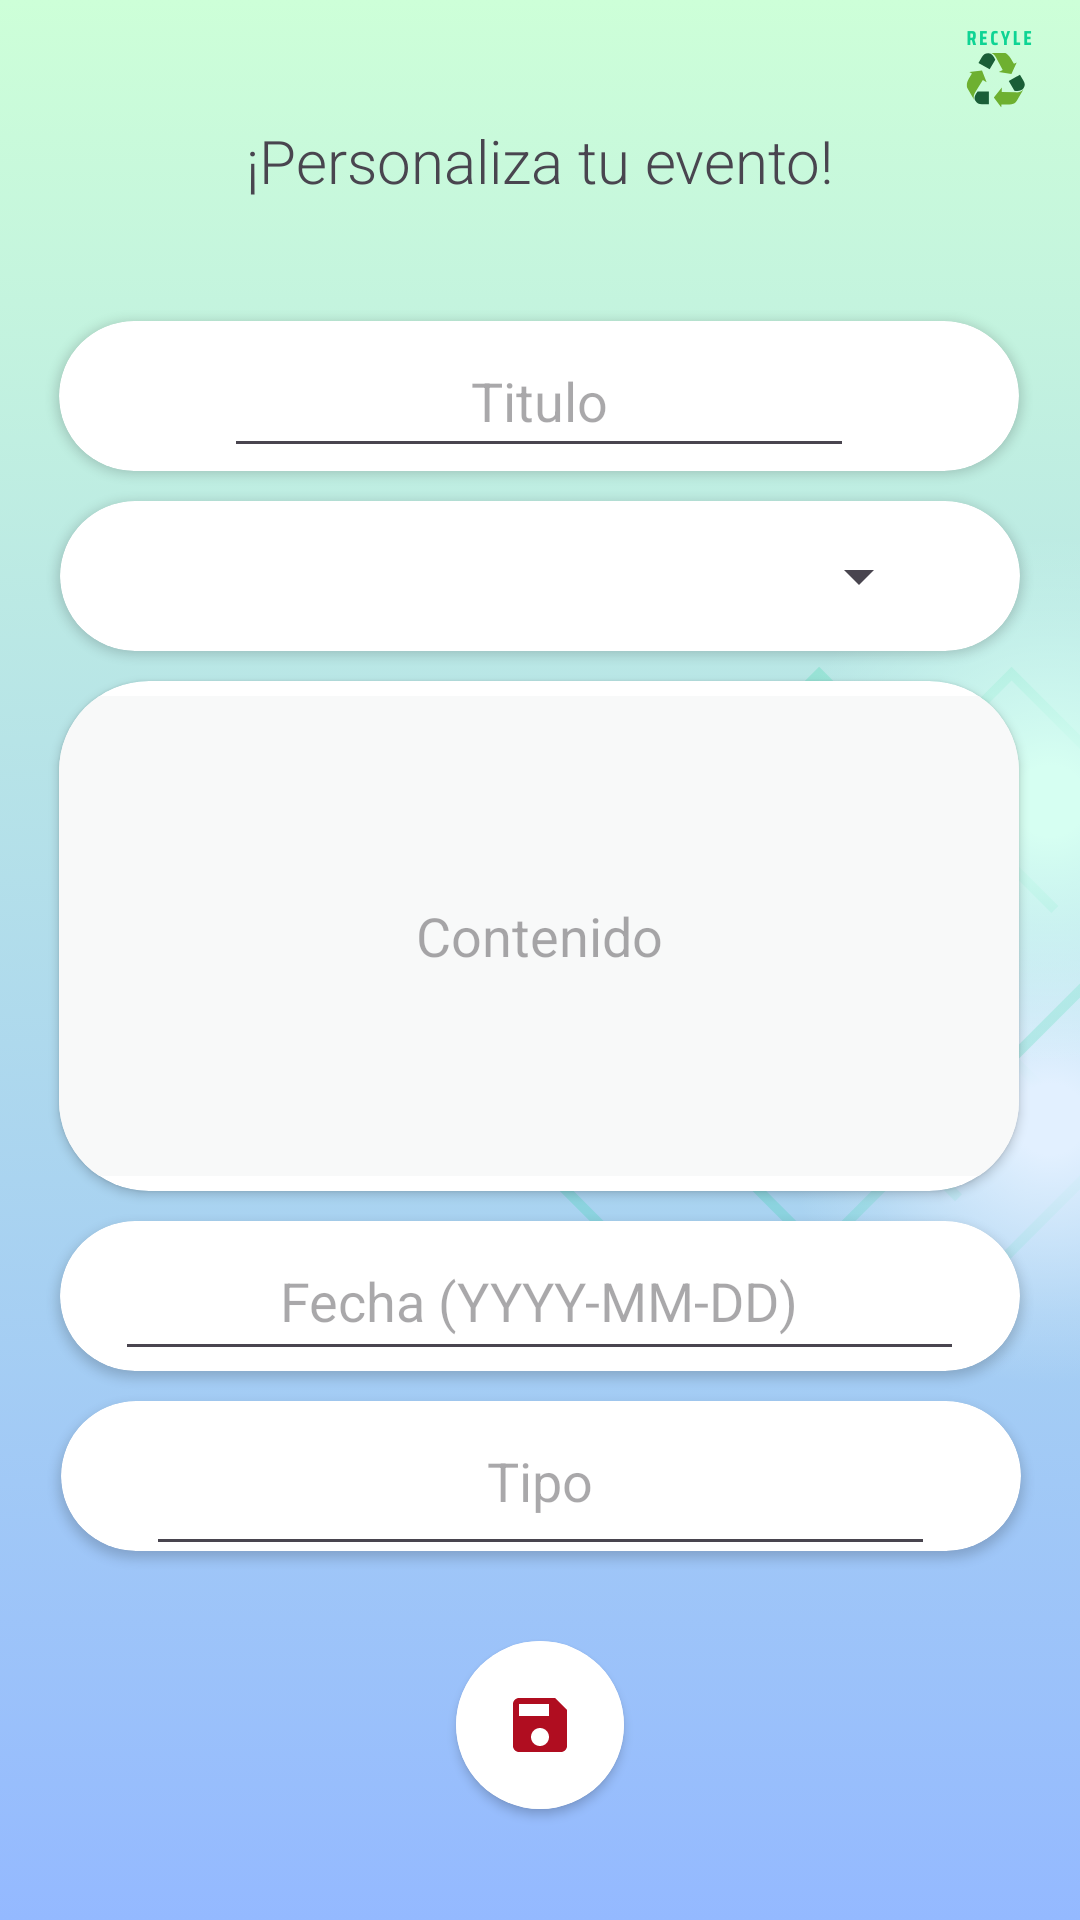

Point at icon controls on the screen. Image size 1080*1920, points as (x=x, y=y).
save: (x=540, y=1725)
